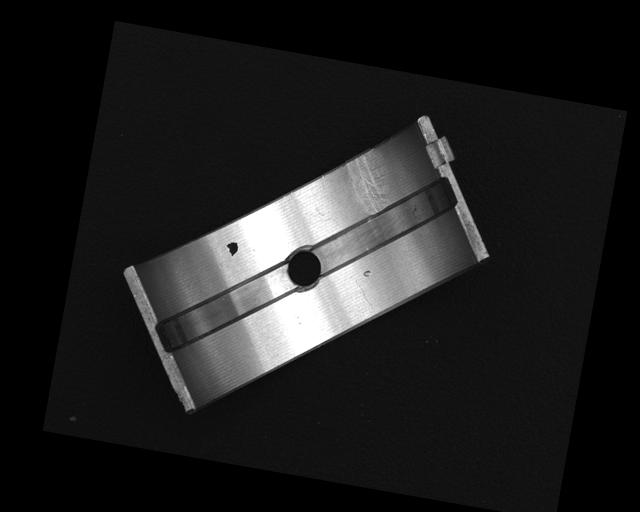blot: (224, 239, 240, 257)
bruise: (362, 268, 372, 278)
gap: (310, 156, 460, 290), (151, 246, 298, 371)
hole: (283, 246, 325, 292)
scratch: (337, 144, 397, 222)
